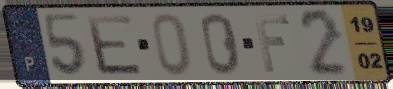0: (149, 11, 195, 78), (199, 11, 242, 78)
2: (297, 7, 354, 80)
5: (39, 11, 90, 80)
E: (83, 13, 147, 77)
F: (252, 13, 293, 74)
